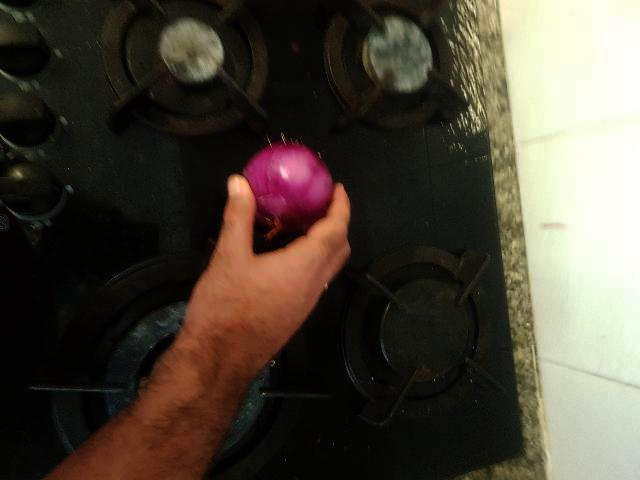onion: (246, 154, 336, 235)
